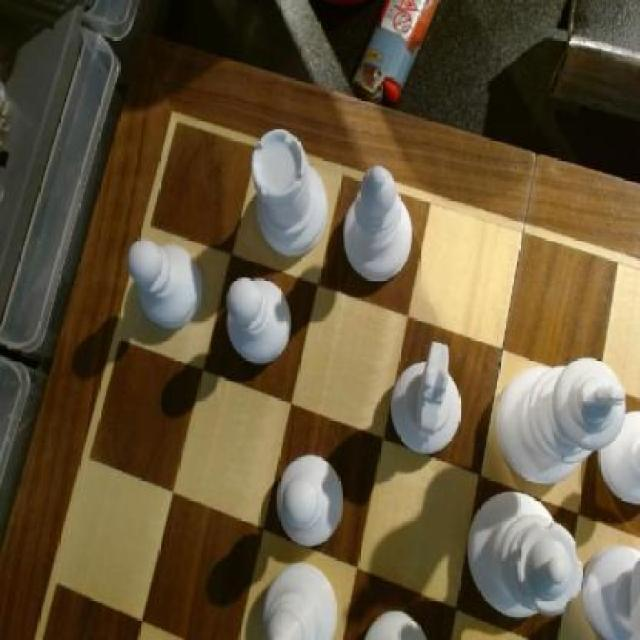black-rook: (341, 164, 417, 284), (266, 560, 341, 640)
white-bishop: (500, 352, 628, 482)
white-king: (389, 338, 465, 454), (586, 541, 640, 640)
white-knight: (126, 240, 206, 335), (277, 452, 345, 556), (226, 278, 292, 371)
white-pawn: (470, 494, 586, 624)
white-queen: (249, 129, 331, 254)
